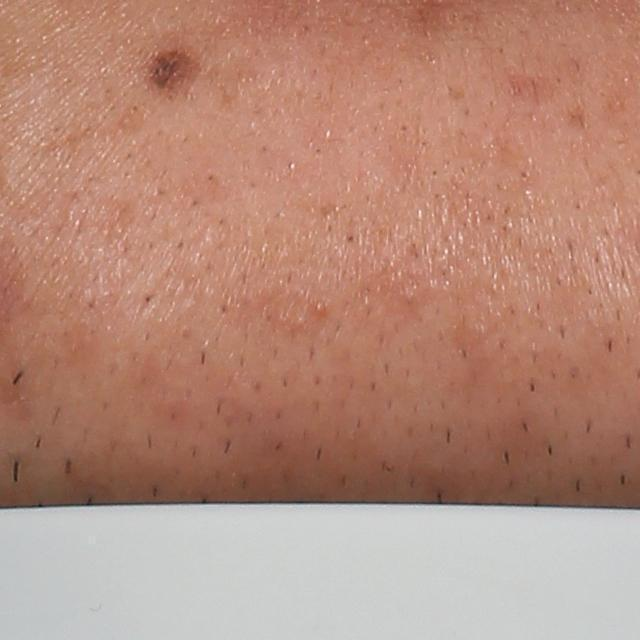comedo: (307, 299, 326, 315)
nevus: (142, 41, 203, 94)
